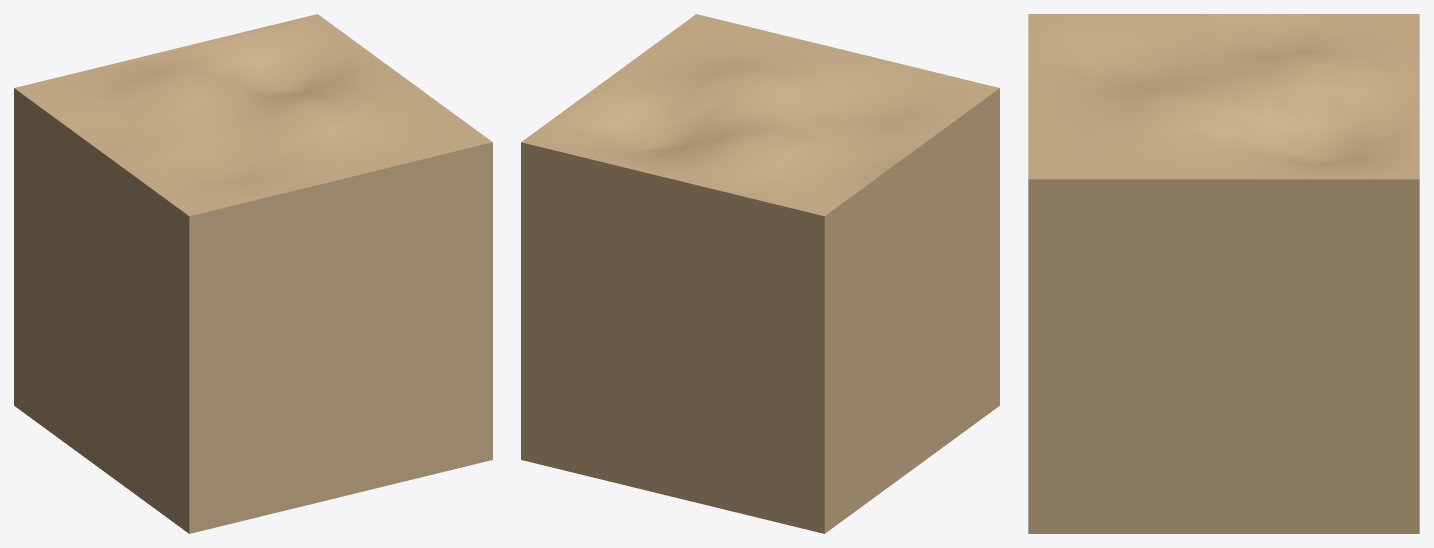
The model's file is Floor_4.fbx.
The picture shows the model from 3 angles, left to right: view 1: azimuth 30°, elevation 25°; view 2: azimuth 150°, elevation 25°; view 3: azimuth 270°, elevation 25°; orthographic projection. The views are drawn at different scales.
Visible parts, largest first — view 1: Floor_4; view 2: Floor_4; view 3: Floor_4.
Part boxes in pixels (x1,y1,x2,y2): Floor_4: (14, 14, 492, 533); Floor_4: (521, 14, 999, 533); Floor_4: (1028, 14, 1419, 533).
Bounding box in the file's own units: 1 × 1 × 1.04.
